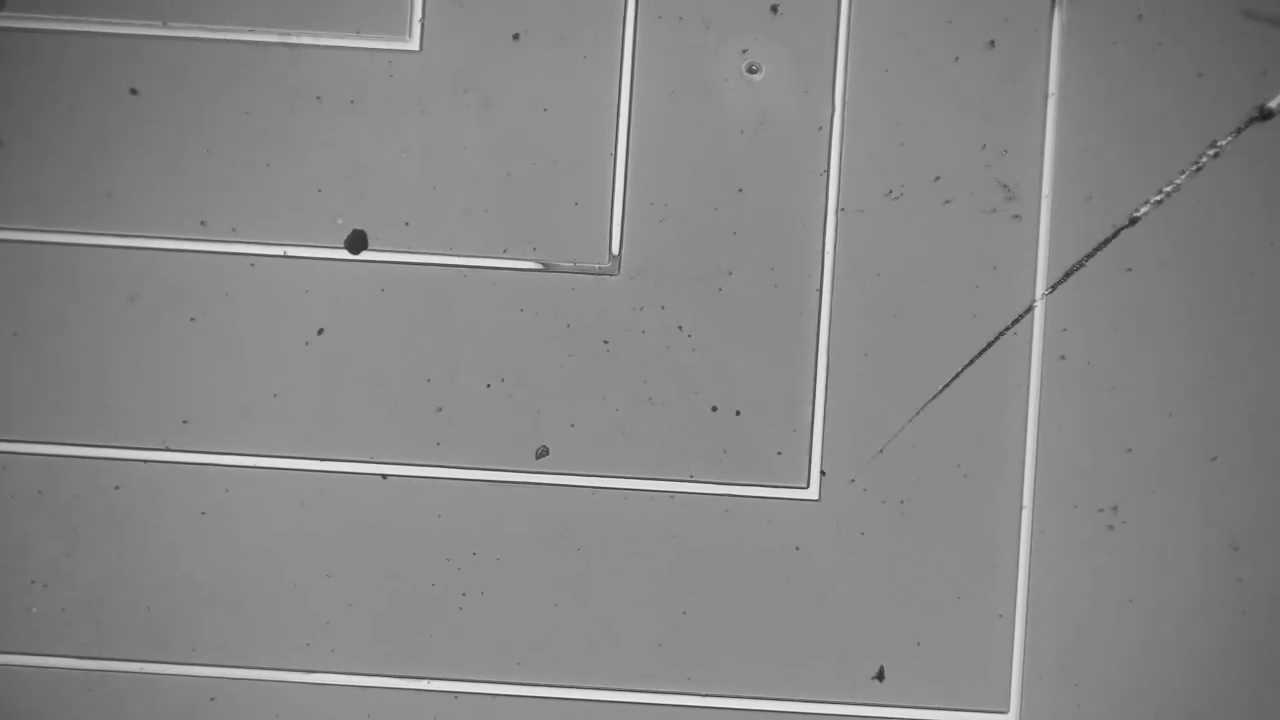gray_line: (490, 254, 625, 280), (592, 234, 635, 294)
scratch: (865, 95, 1279, 457)
stains_enbedded: (324, 213, 379, 273)
